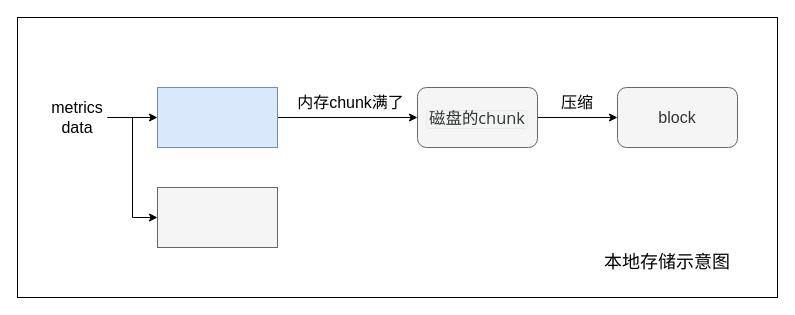
Some shapes in this 795 by 315 pixel diagram are drawn without their labels. The shapes that lost their labels are listed below. From the top down, each one's box as (x1, y1, x2, y2) in pixels, then its label:
(156, 86, 278, 148): 内存的chunk
(156, 186, 278, 248): 磁盘WAL
